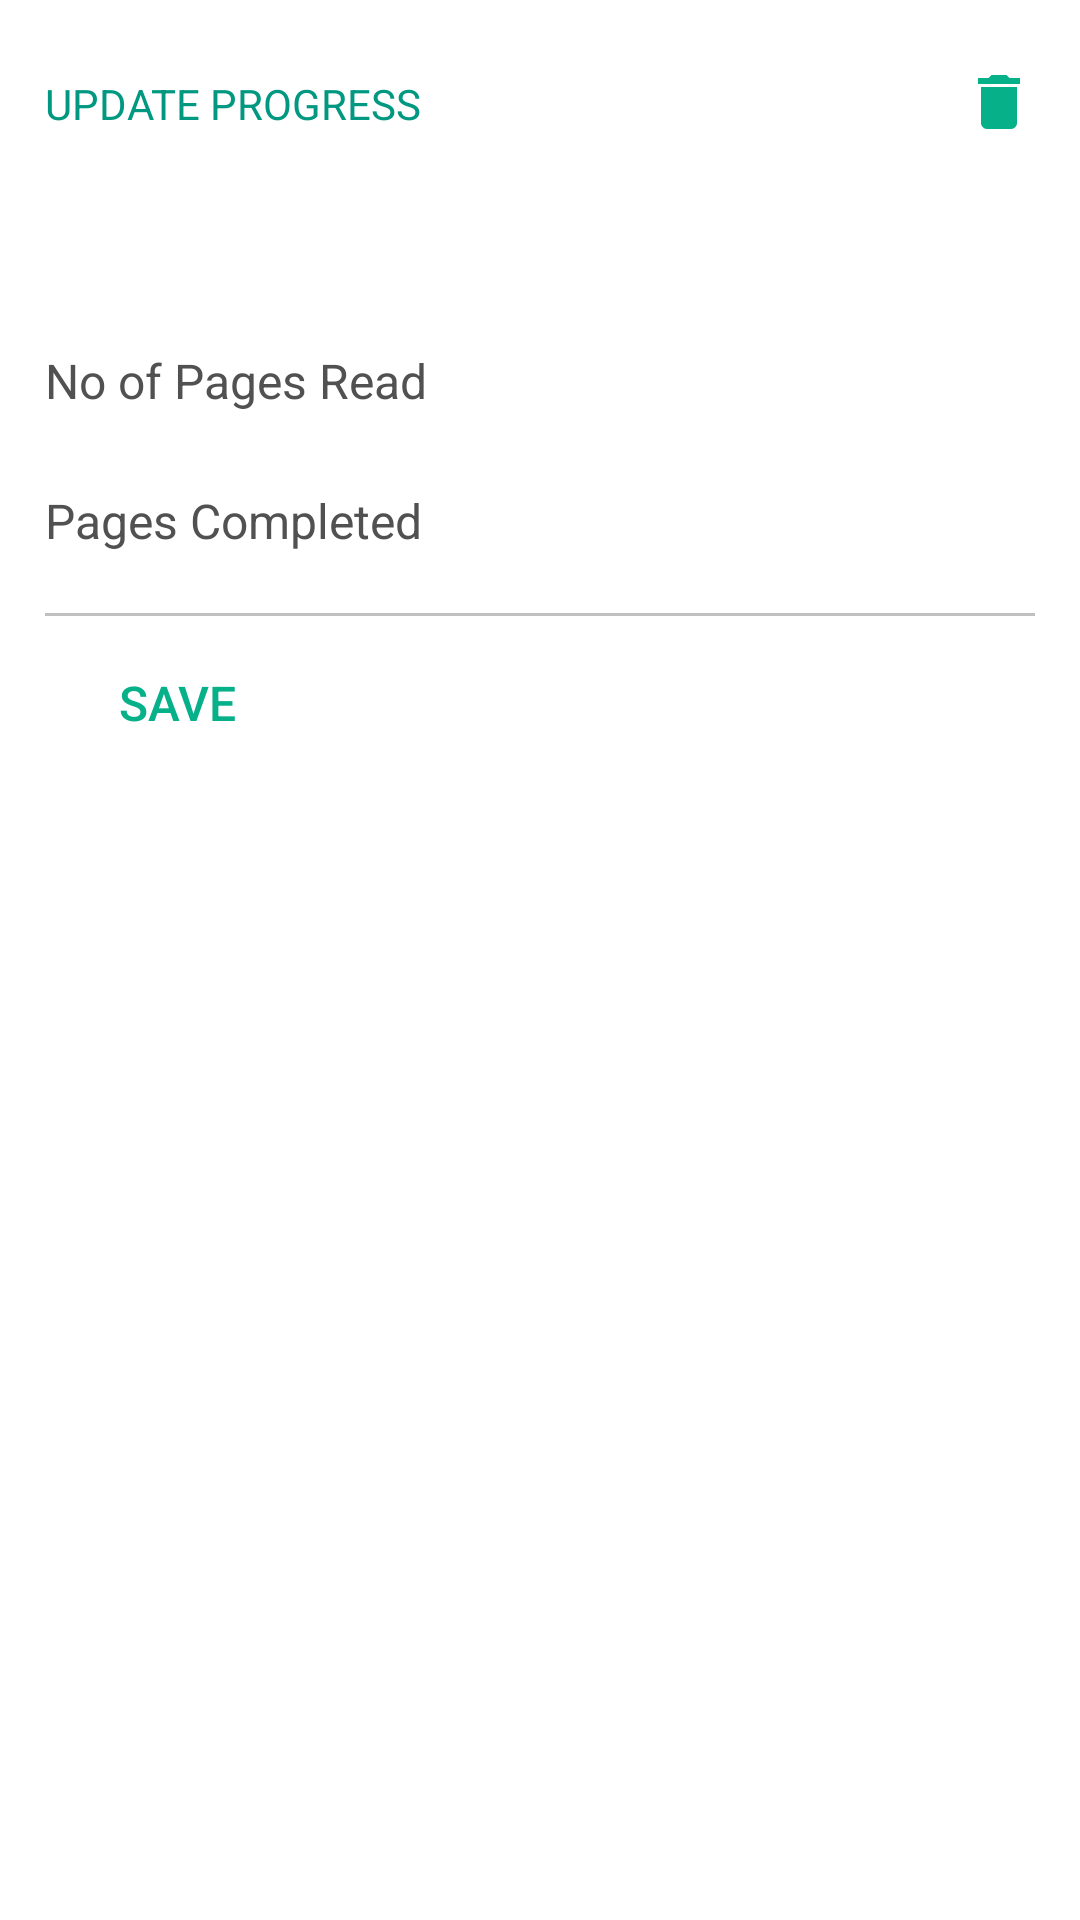

Where icons sit on this 1080×1920 app screen, as (x1, y1, x2, y2):
delete: (978, 75, 1020, 129)
